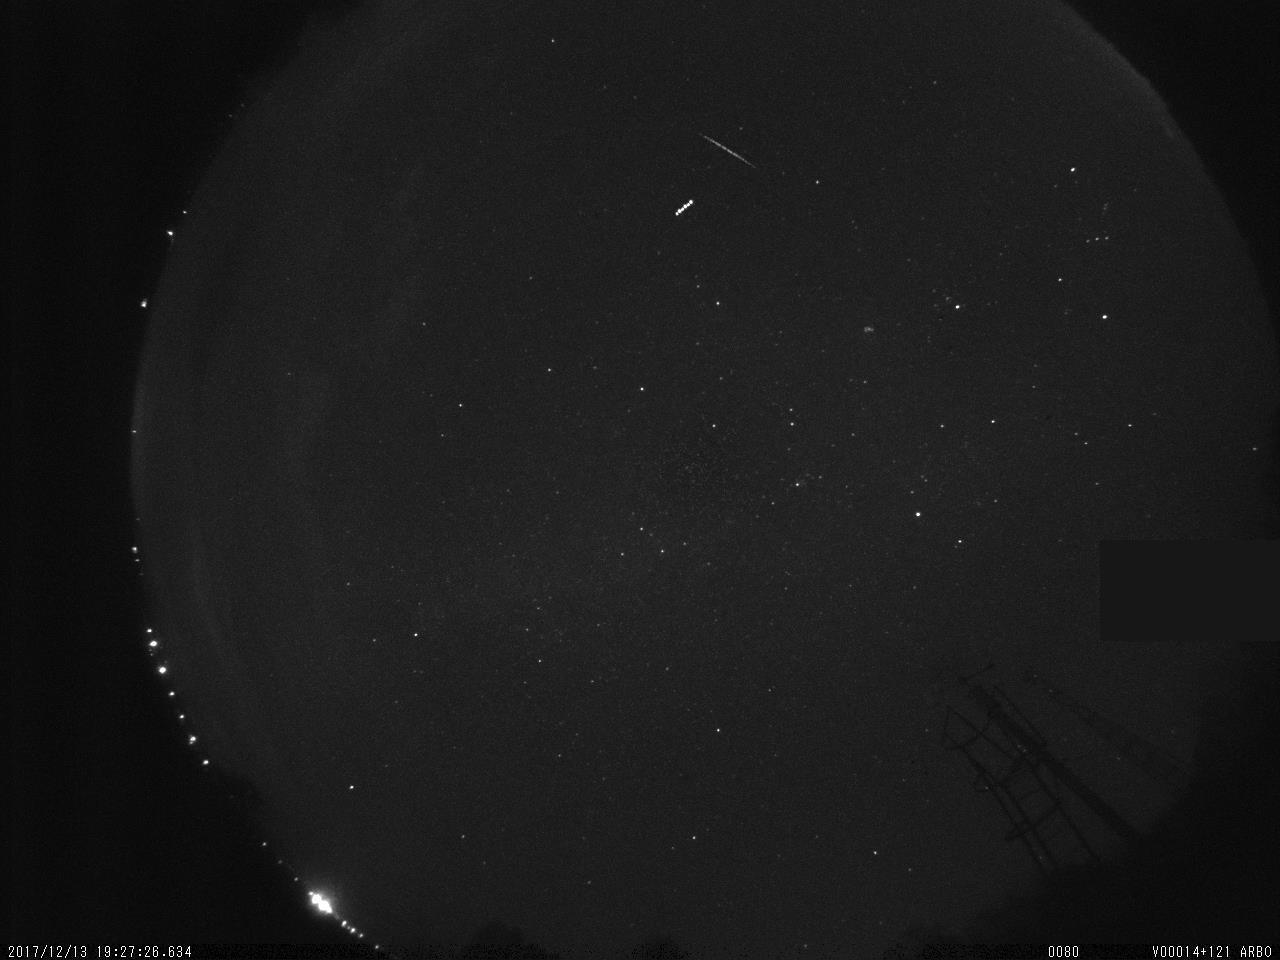Meteor: (692, 125, 765, 175)
